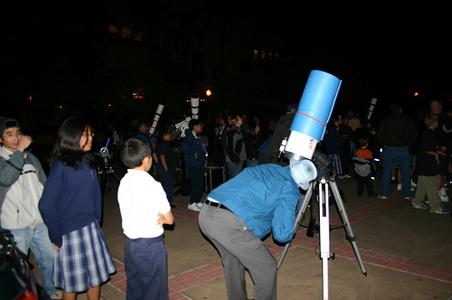person: (197, 162, 304, 300)
